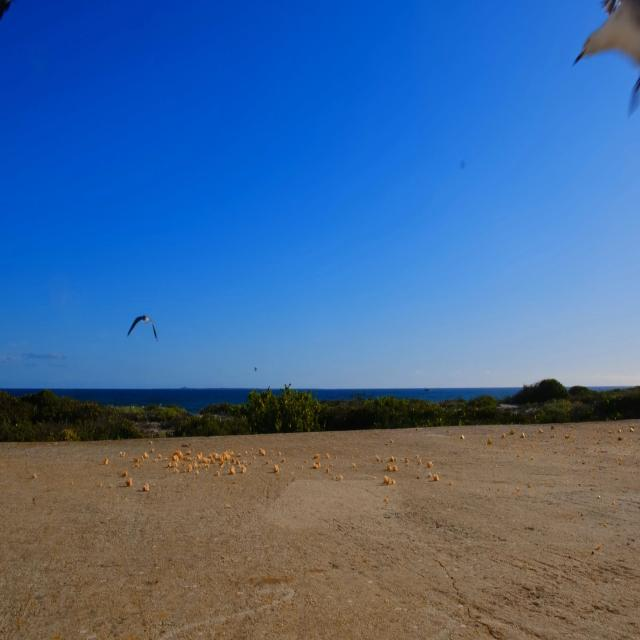bird: (562, 2, 640, 96), (122, 305, 163, 347)
